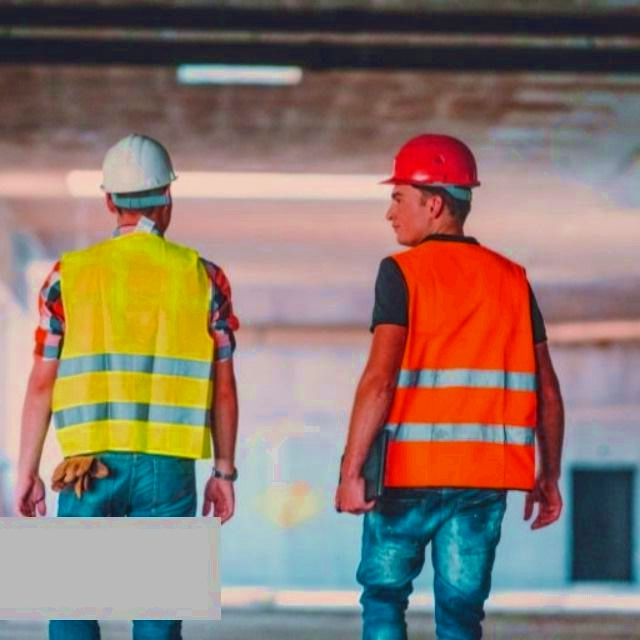Con_Chaleco: (376, 241, 535, 496), (51, 229, 221, 457)
